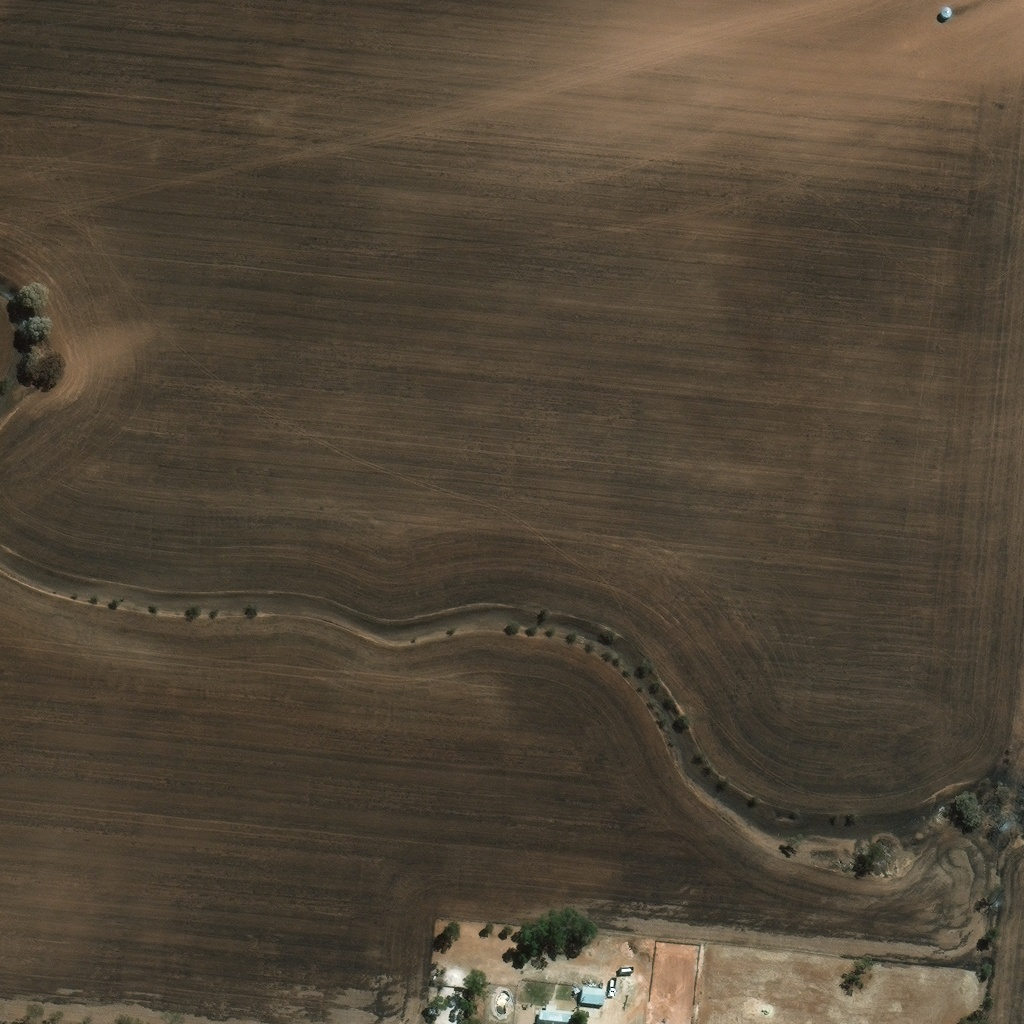0 no-damage: (581, 982, 607, 1000)
4 un-classified: (535, 1001, 575, 1023), (905, 36, 916, 47)
